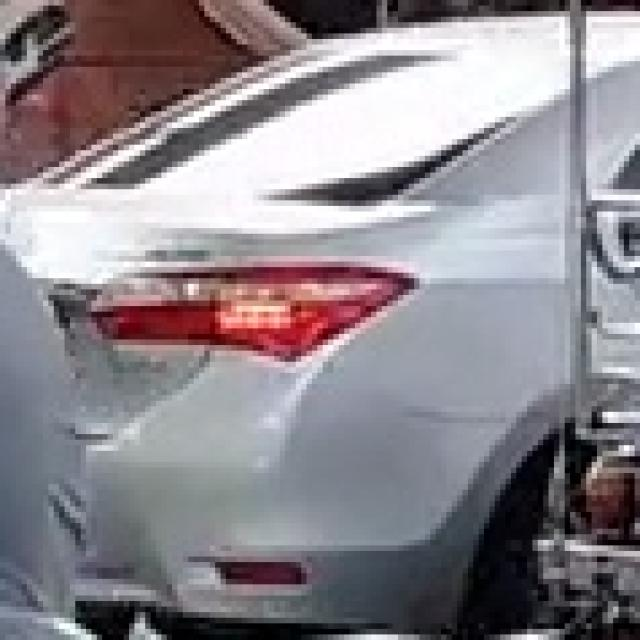door: (564, 0, 634, 434)
helmet: (0, 0, 634, 634)
